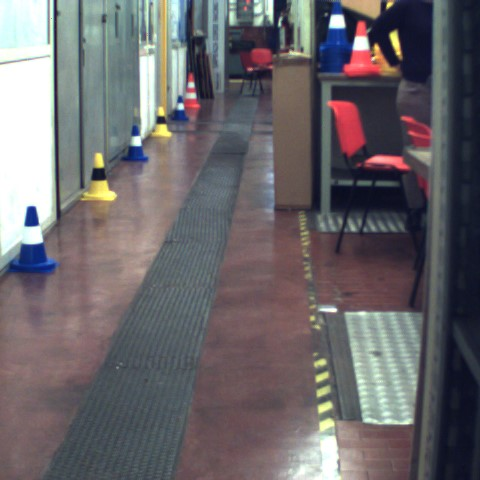cone: (10, 205, 56, 273), (122, 125, 149, 162), (171, 96, 188, 120)
